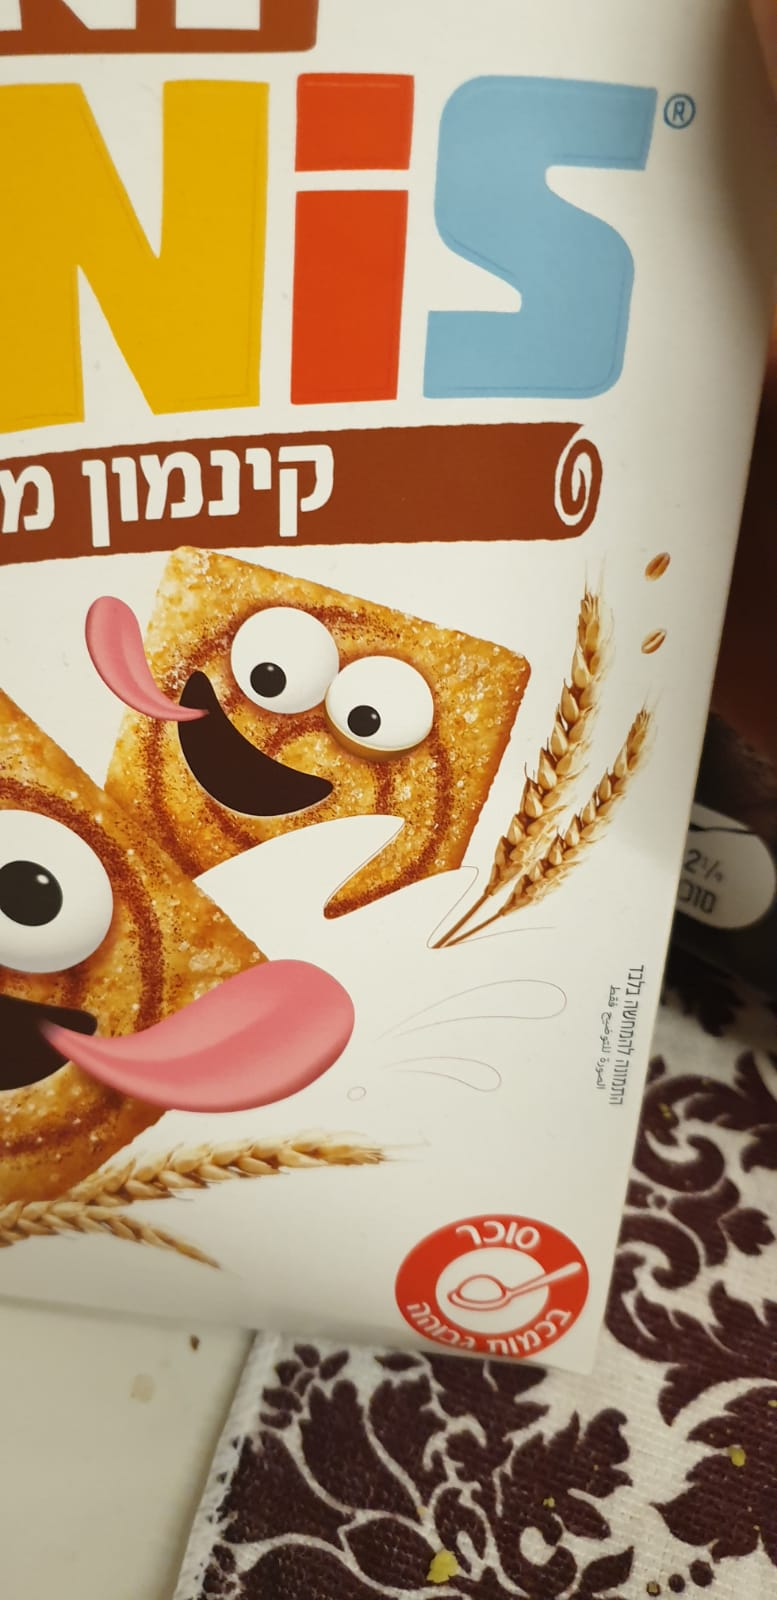sugar: (389, 1213, 590, 1363)
